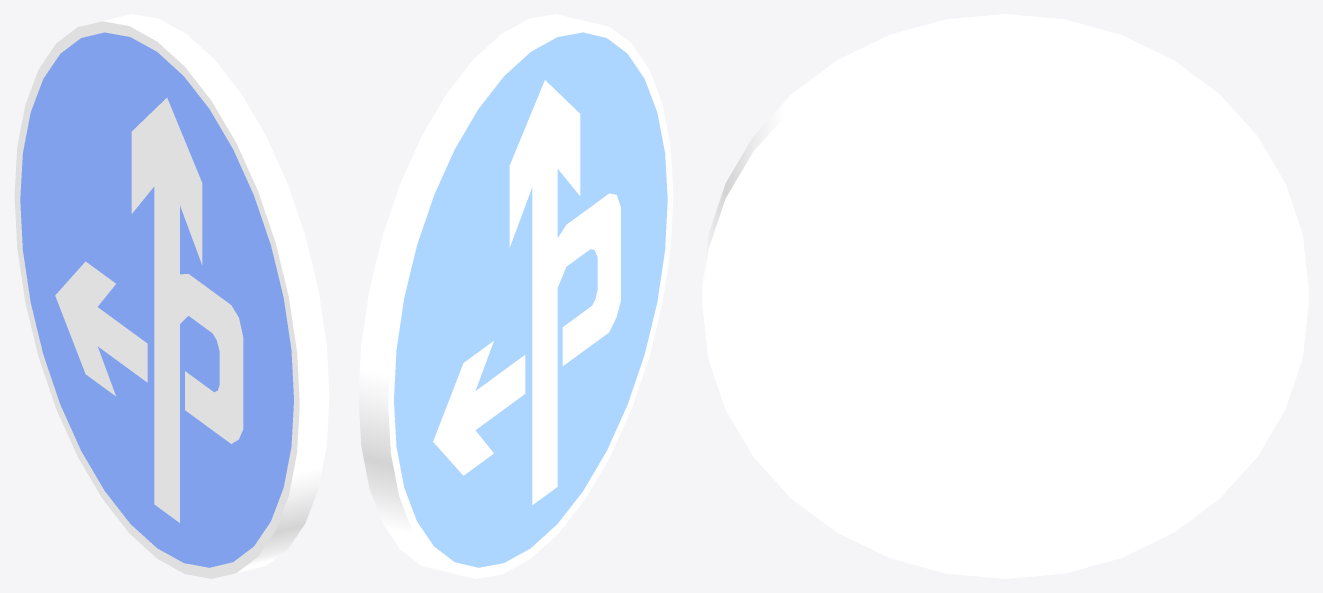
The model's file is Flyover_Straight_And_TurnLeft.glb.
The picture shows the model from 3 angles, left to right: view 1: azimuth 30°, elevation 25°; view 2: azimuth 150°, elevation 25°; view 3: azimuth 270°, elevation 25°; orthographic projection. The views are drawn at different scales.
Visible parts, largest first — view 1: Flyover_Straight_And_TurnLeft; view 2: Flyover_Straight_And_TurnLeft; view 3: Flyover_Straight_And_TurnLeft.
Part boxes in pixels (x1=…): Flyover_Straight_And_TurnLeft: x1=14, y1=14, x2=329, y2=578; Flyover_Straight_And_TurnLeft: x1=358, y1=14, x2=673, y2=578; Flyover_Straight_And_TurnLeft: x1=702, y1=14, x2=1308, y2=578.
Bounding box in the file's own units: 0.0643 × 1 × 1.
